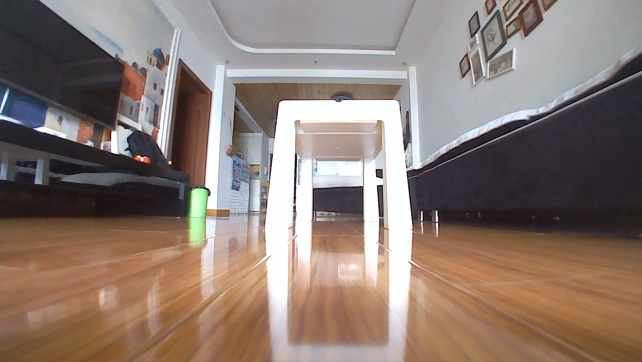TV_stand1: (0, 115, 190, 220)
sofa: (302, 45, 641, 225)
